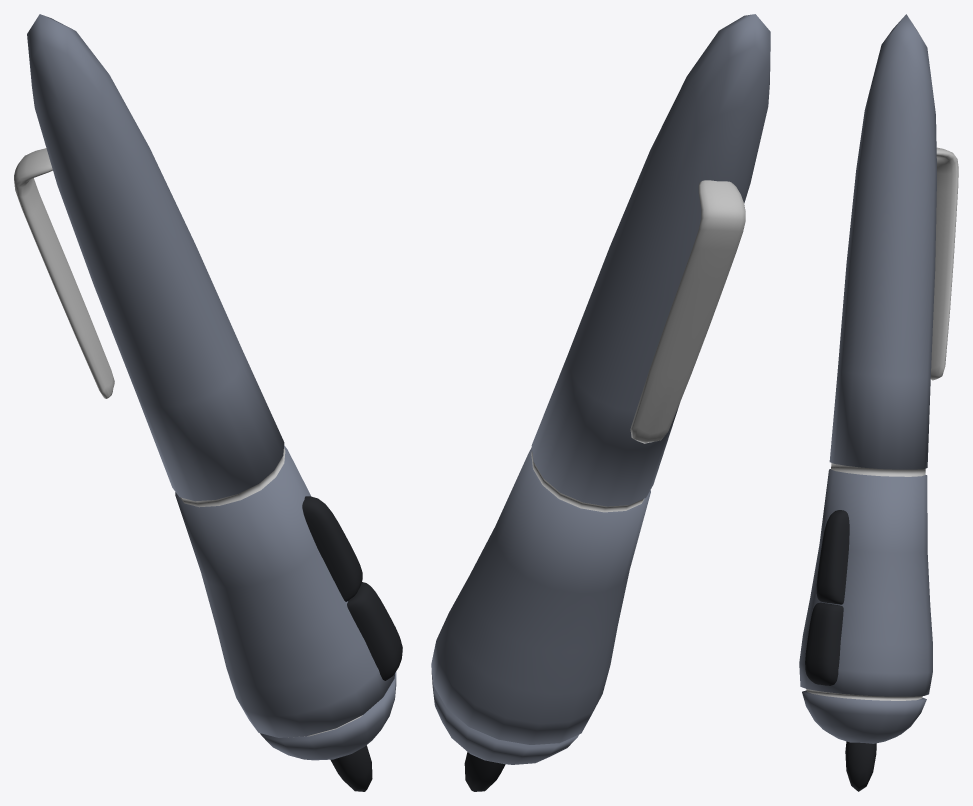
The model's file is Pen.glb.
3 renders of one model, left to right at view 1: azimuth 30°, elevation 25°; view 2: azimuth 150°, elevation 25°; view 3: azimuth 270°, elevation 25°, orthographic. The views are drawn at different scales.
Visible parts, largest first — view 1: Cube; view 2: Cube; view 3: Cube.
Part boxes in pixels (x1,y1,x2,y2): Cube: (14,14,402,791); Cube: (431,14,770,791); Cube: (799,14,958,791).
Bounding box in the file's own units: 0.5439 × 1.29 × 0.2813.
